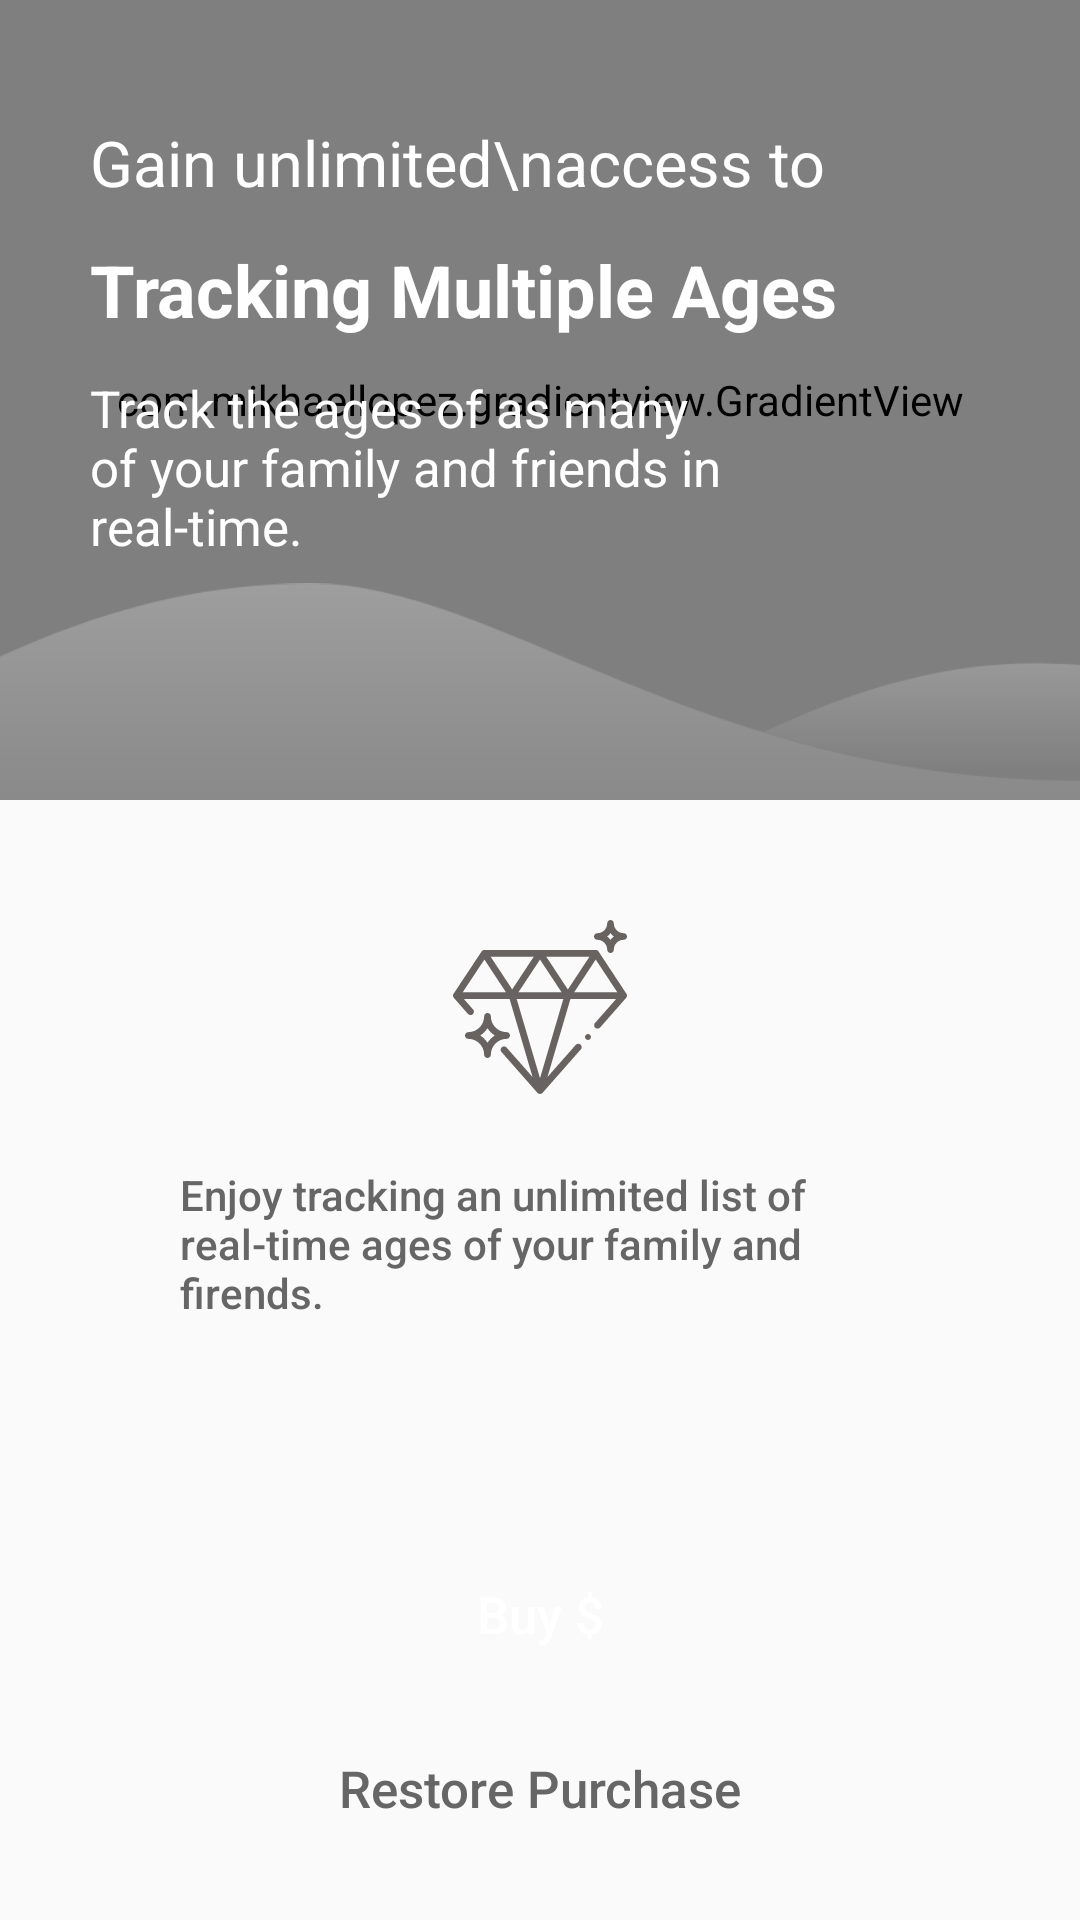

Named icons in this screenshot (1080 x 1920) and their bounding boxes, (x1, y1, x2, y2):
diamond: (453, 920, 627, 1094)
